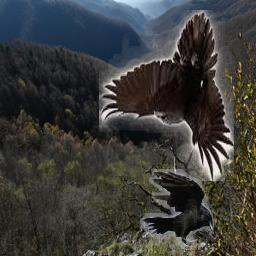Crow: (100, 11, 235, 182), (140, 170, 214, 251)
